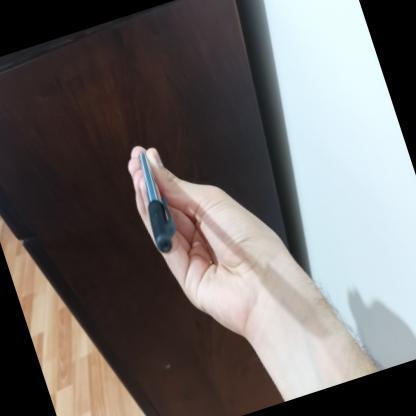pencil: (139, 150, 178, 254)
